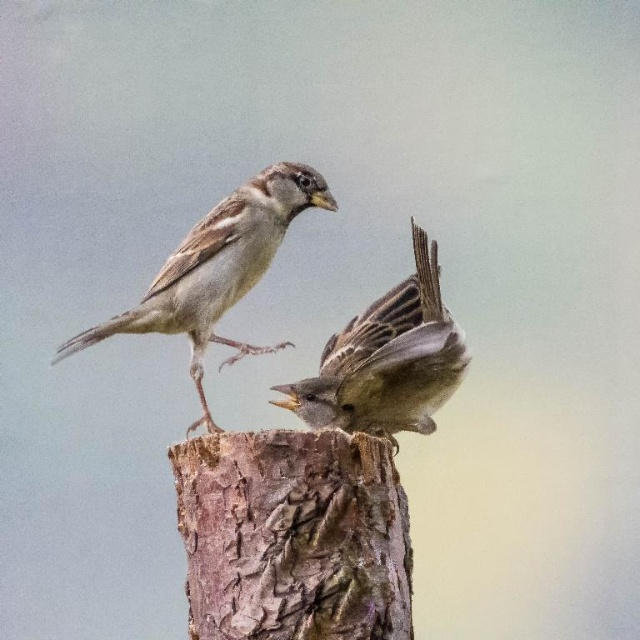Sparrow: (47, 157, 354, 431), (268, 215, 473, 433)
